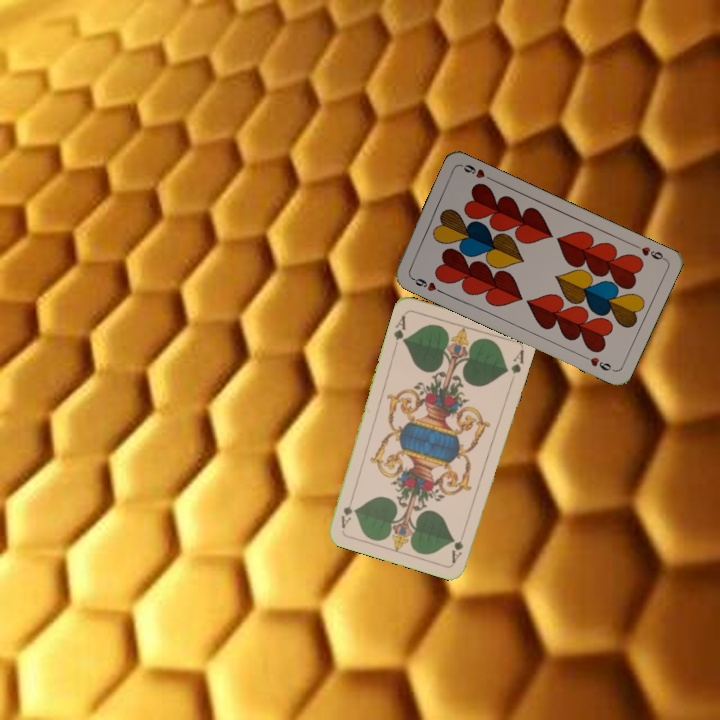GA: (448, 526, 468, 565), (390, 311, 409, 345)
H9: (406, 272, 445, 296), (629, 240, 668, 263)
